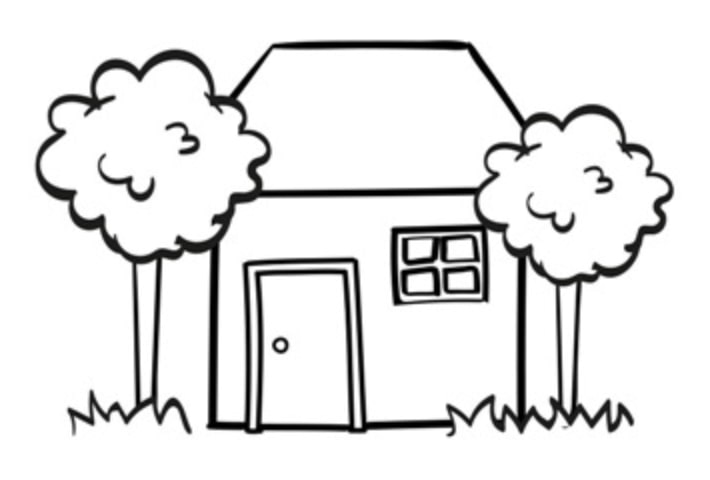House: (161, 25, 553, 441)
